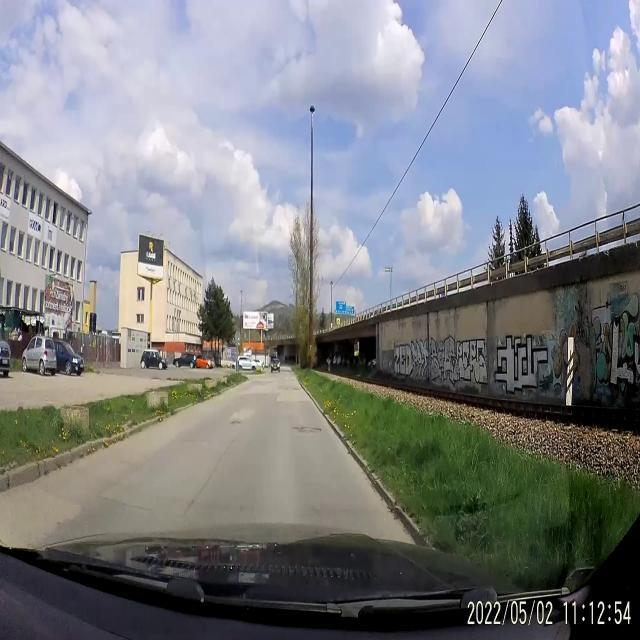Pothole: (292, 422, 322, 438), (224, 415, 246, 428)
